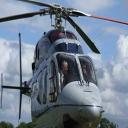helicopter: (6, 3, 115, 126)
